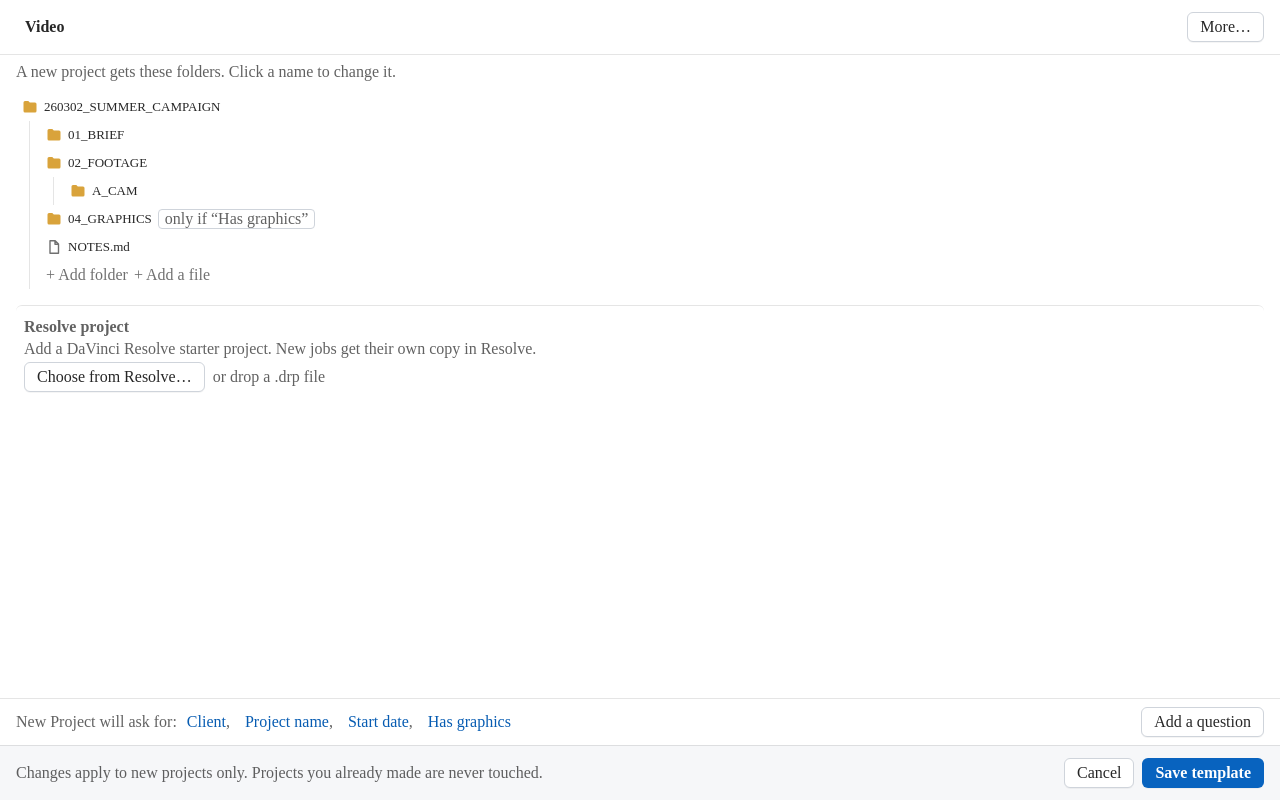
TemplateEditor (one screen) › shows names as an example project until you click one to change it
Click the name: it's the pattern again, with chips.
Click the text "260302_SUMMER_CAMPAIGN" at [132, 107], box [44,99,220,115]
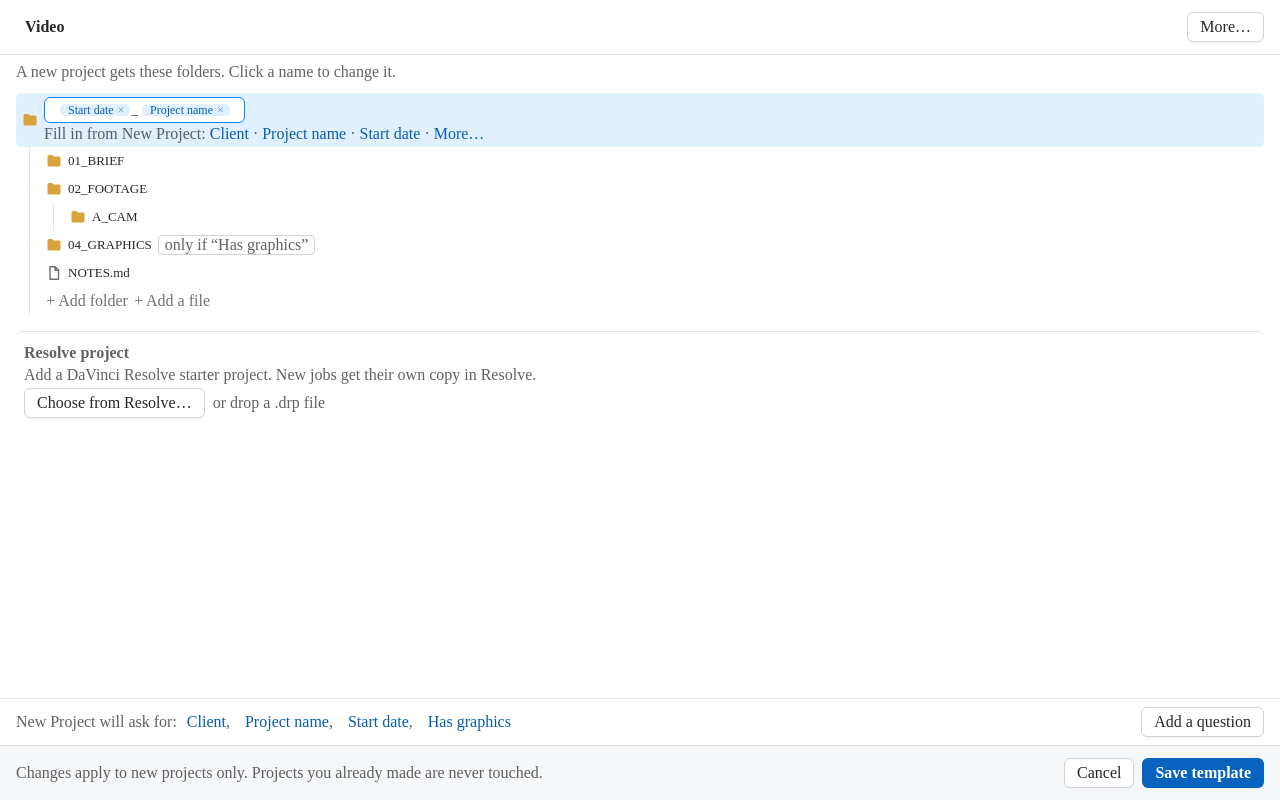
Result: the 1st button "Start date" is shown at [66,104,114,116]
Result: the 1st button "Project name" is shown at [148,104,213,116]
Result: the text "260302_SUMMER_CAMPAIGN" is gone
